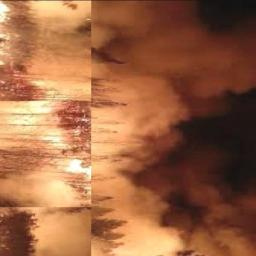Heavy smoke: (53, 3, 252, 256)
Small fire: (0, 2, 126, 256)
